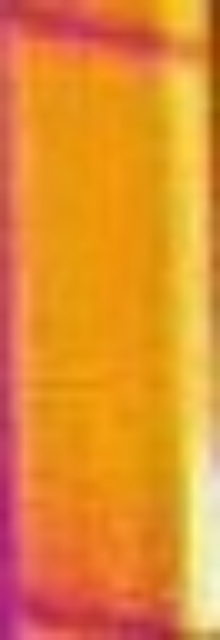Diode: (164, 51, 218, 635)
